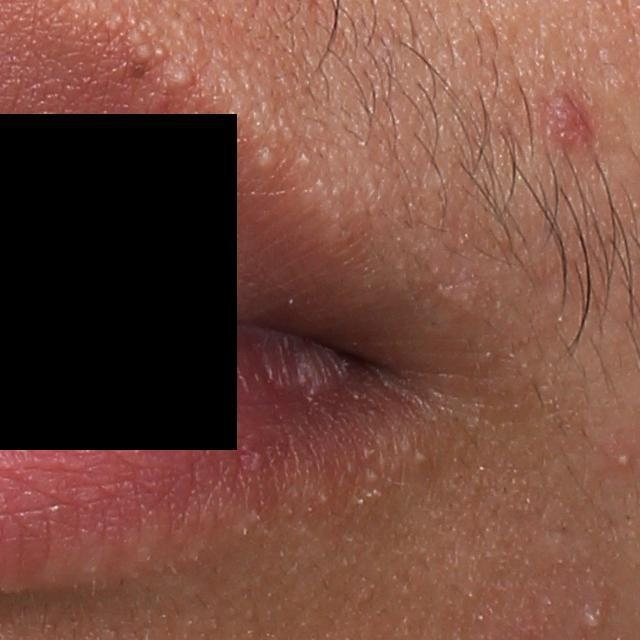comedo: (582, 606, 602, 631)
pustule: (614, 447, 636, 470)
